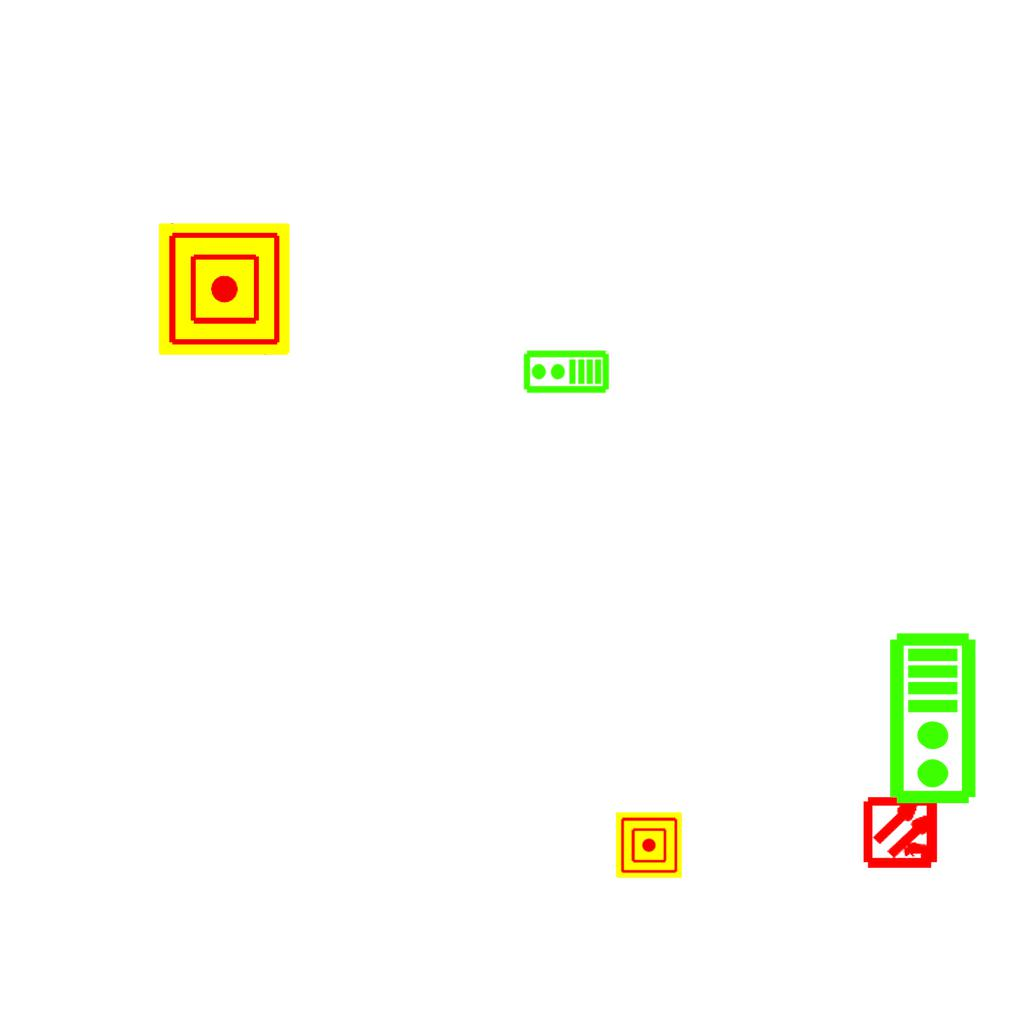Gegensprechanlage_mit_Video: (887, 631, 982, 807), (522, 349, 610, 396)
NAM-Nichtautomatischer_Melder: (158, 223, 290, 355), (616, 812, 682, 878)
OT_Multisensormelder_(Kombination_RMO_WMD): (846, 776, 959, 889)
